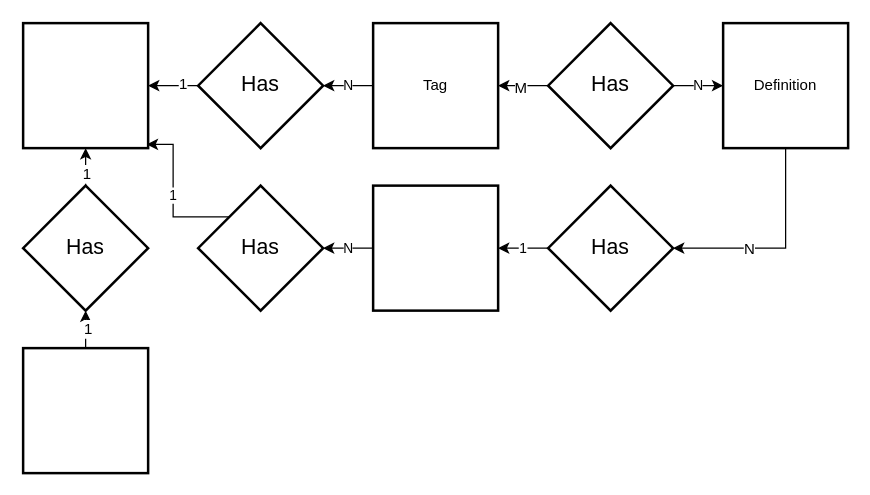
Image size: 870x495. Some labels were removed from this diagram. The centre of each missing label's shape, as x and y in pixels:
"Description" belongs at (x=85, y=410).
"Language" belongs at (x=85, y=85).
"Word" belongs at (x=435, y=247).
